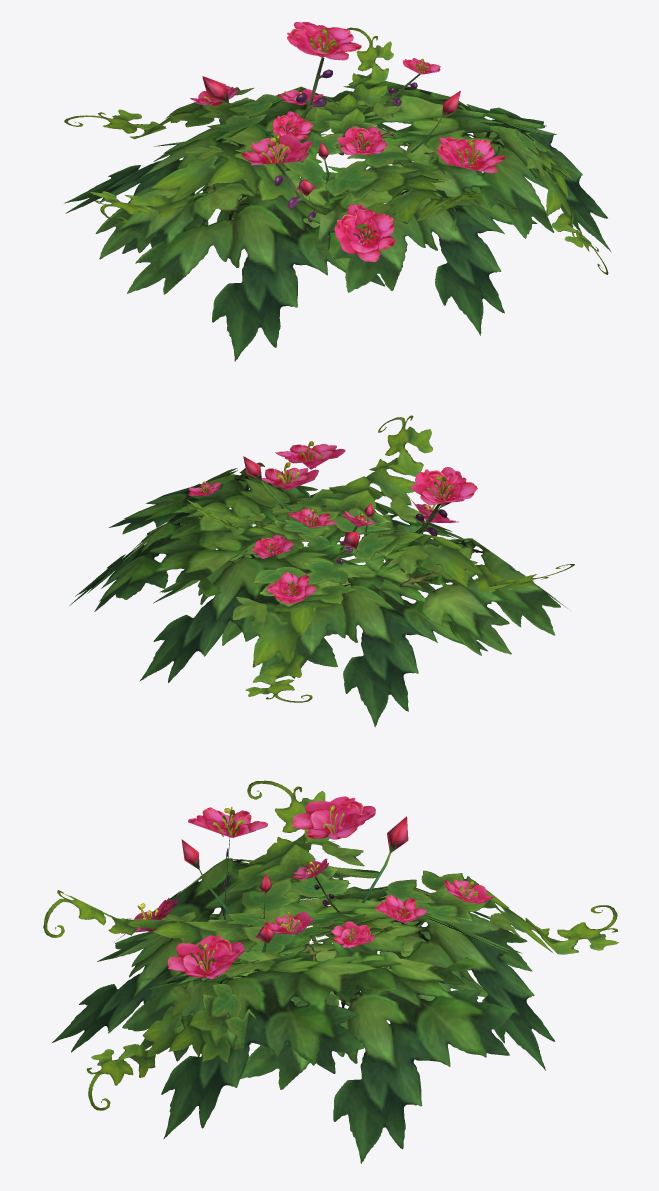
Rendered from wm_灌木洛阳城花草01.fbx.
3 renders of one model, top to bottom at view 1: azimuth 30°, elevation 25°; view 2: azimuth 150°, elevation 25°; view 3: azimuth 270°, elevation 25°, orthographic. The views are drawn at different scales.
Visible parts, largest first — view 1: wm_灌木洛阳城花草01; view 2: wm_灌木洛阳城花草01; view 3: wm_灌木洛阳城花草01.
Part boxes in pixels (left/top/right/bottom): wm_灌木洛阳城花草01: left=64, top=22, right=611, bottom=361; wm_灌木洛阳城花草01: left=69, top=415, right=574, bottom=727; wm_灌木洛阳城花草01: left=43, top=780, right=618, bottom=1163.
Size of the model in its own units: 311 by 118 by 269.
